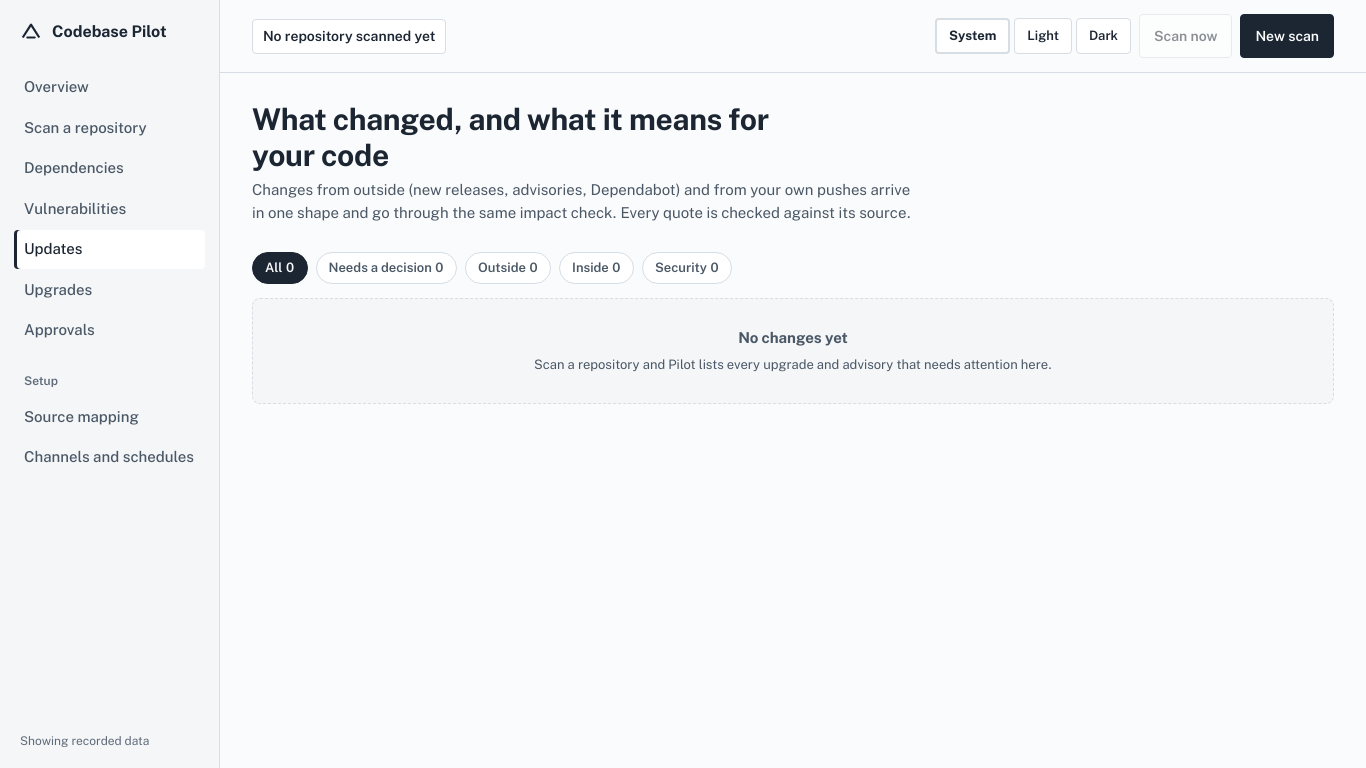
Test case: Update feed › filters through the API and has an empty state
Check: the text "No changes yet" is shown, box [738, 328, 848, 346]
Click the button "Security 0". click: (687, 268)
box: [642, 252, 732, 284]
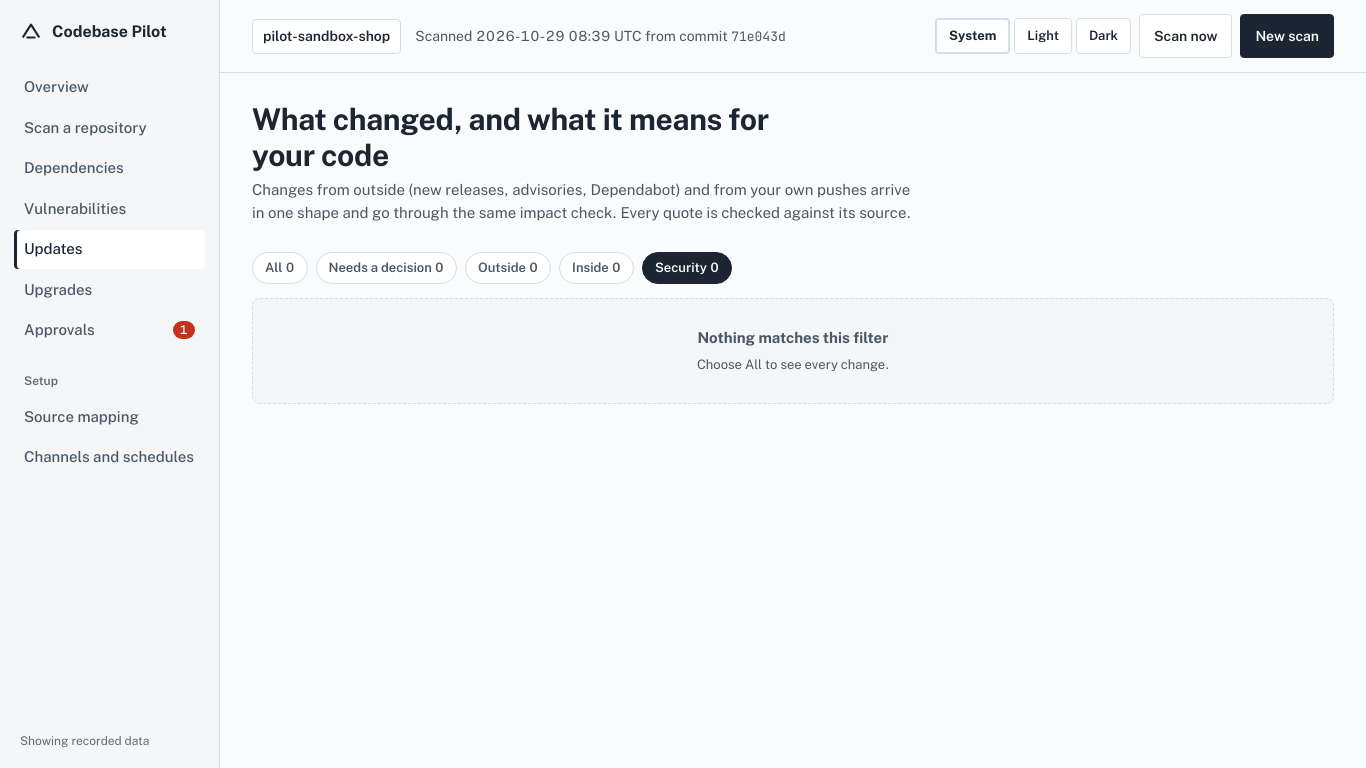
Check: the text "Nothing matches this filter" is shown, box [698, 328, 888, 346]
